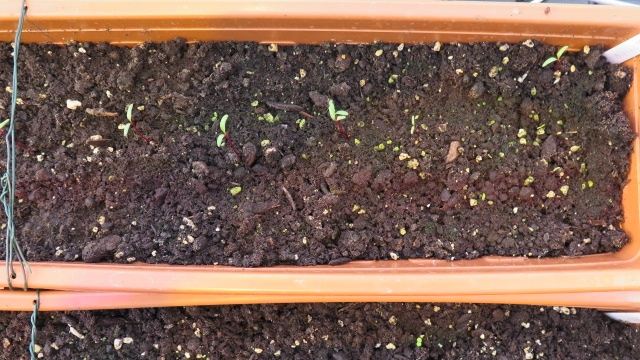crop: (326, 99, 352, 140), (211, 112, 232, 148), (117, 101, 136, 139)
weed: (408, 116, 418, 134)
